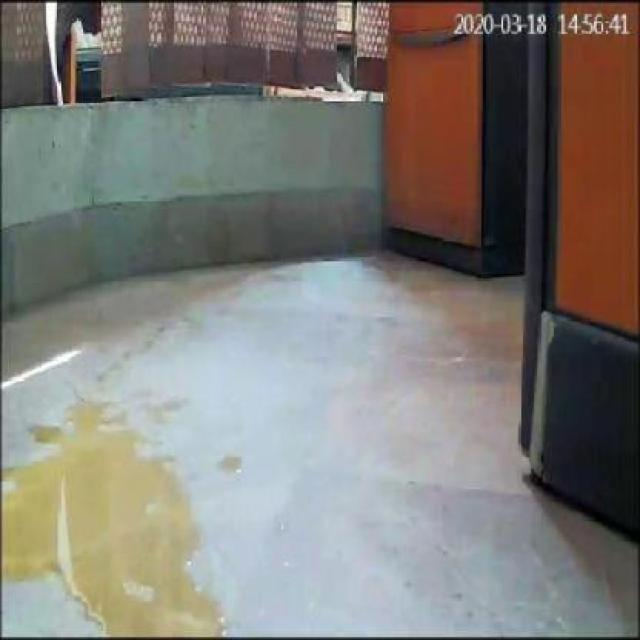spillage: (2, 403, 222, 638), (221, 456, 242, 474)
